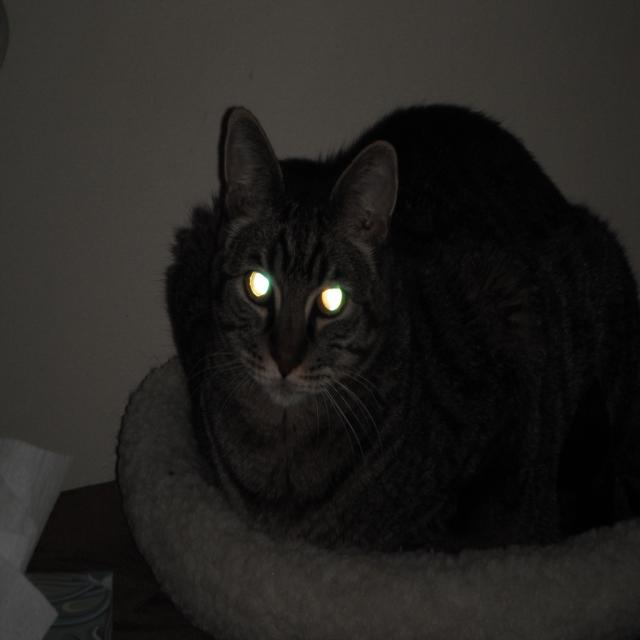Cat: (187, 85, 640, 541)
